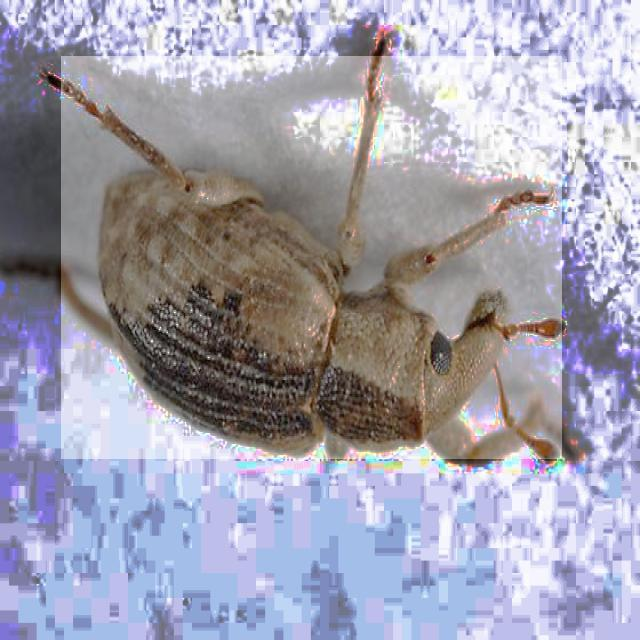rice-bug: (61, 56, 562, 459)
